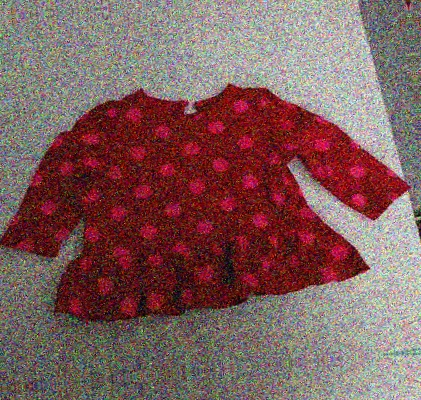Dress: (1, 44, 421, 320)
